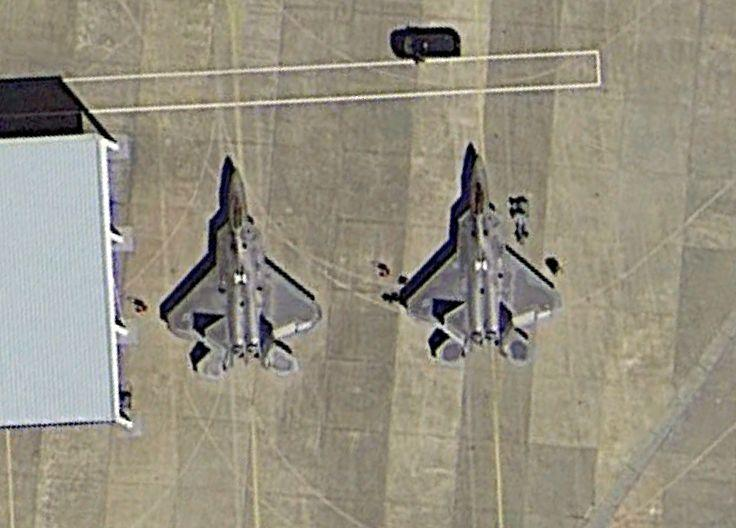F-22: (396, 141, 567, 367), (164, 151, 324, 382)
